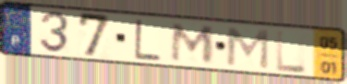3: (36, 10, 71, 56)
7: (77, 10, 113, 59)
L: (275, 28, 309, 74), (133, 17, 163, 63)
M: (224, 26, 271, 71), (169, 22, 217, 65)
